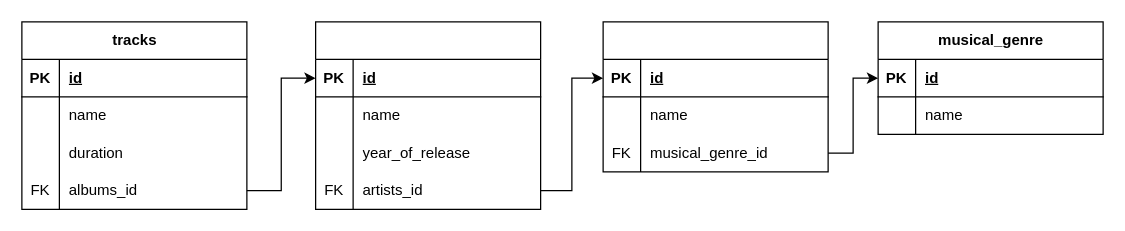
Image size: 1125x231. Some labels were removed from this diagram. The box of each missing label's shape, as (x1, y1, x2, y2) in pixels:
albums: (314, 21, 541, 209)
artists: (602, 21, 828, 172)
